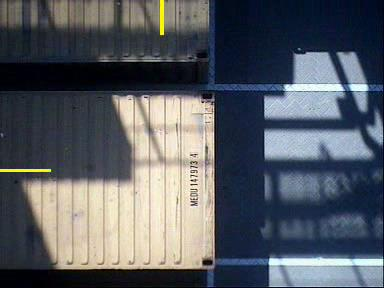groundmarker_2: (39, 36, 146, 106)
